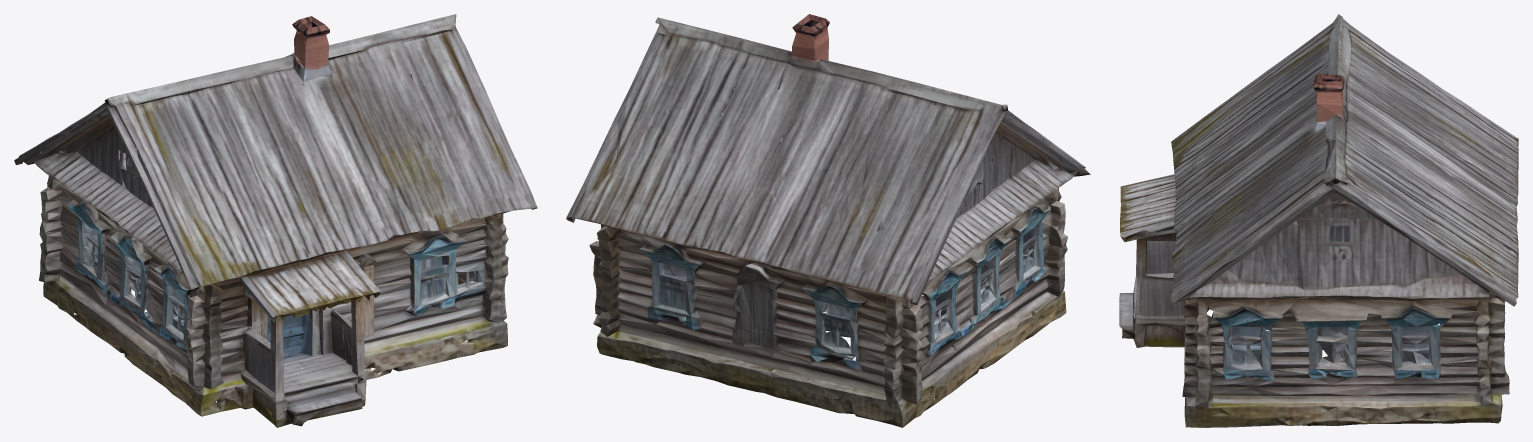
File: izba.obj
3 views of the same model, side by side, from view 1: azimuth 30°, elevation 25°; view 2: azimuth 150°, elevation 25°; view 3: azimuth 270°, elevation 25° (orthographic). The views are drawn at different scales.
Visible parts, largest first — view 1: izba; view 2: izba; view 3: izba.
Part boxes in pixels (box(x1,y1,x2,y2)): izba: box(14, 14, 537, 427); izba: box(566, 14, 1090, 427); izba: box(1119, 14, 1518, 427).
Size of the model in its own units: 9.8 by 8.08 by 10.
Materials: 1 (1 with a texture image).
